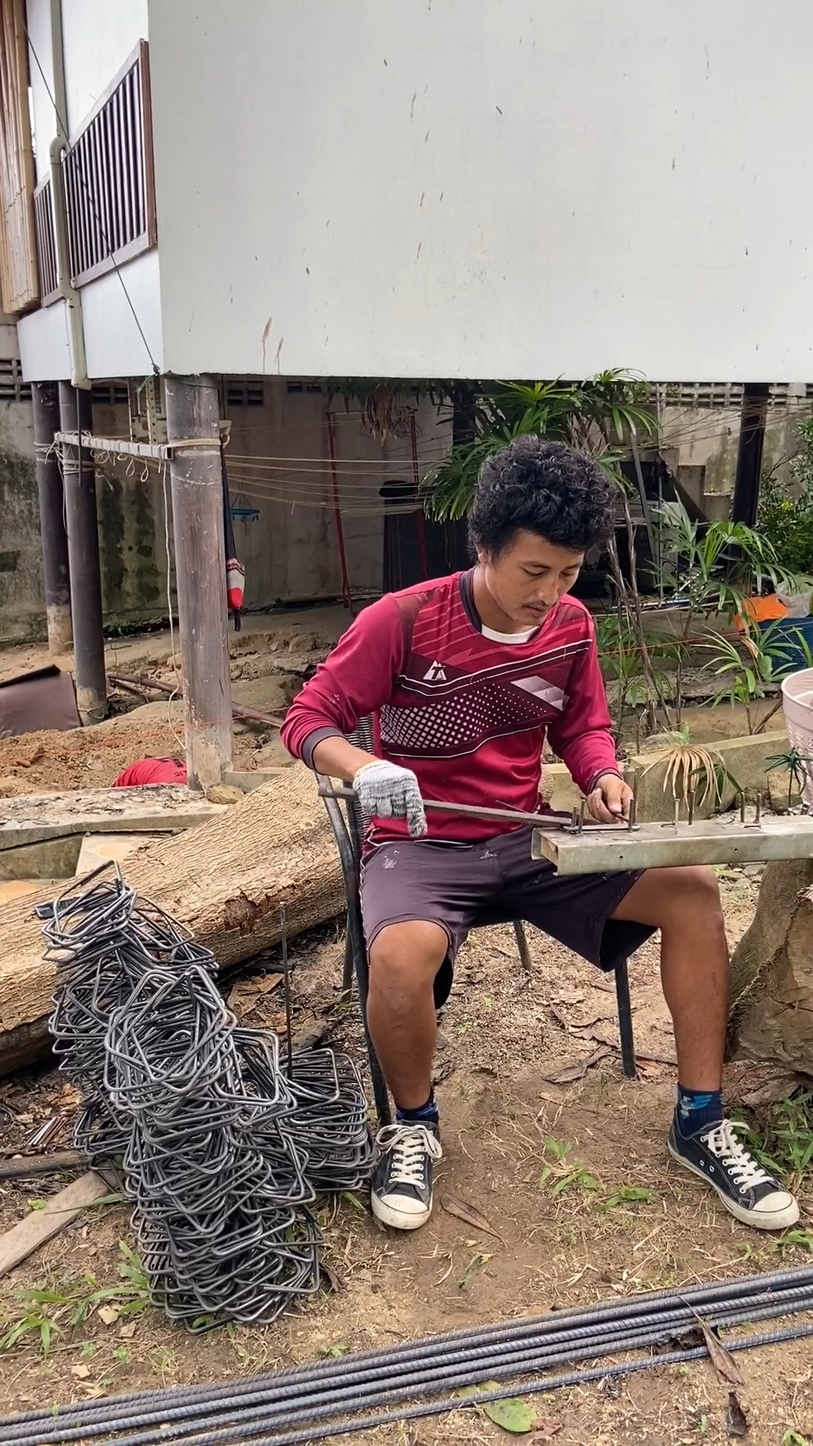No-gloves: (572, 766, 653, 829)
gloves: (326, 738, 454, 846)
